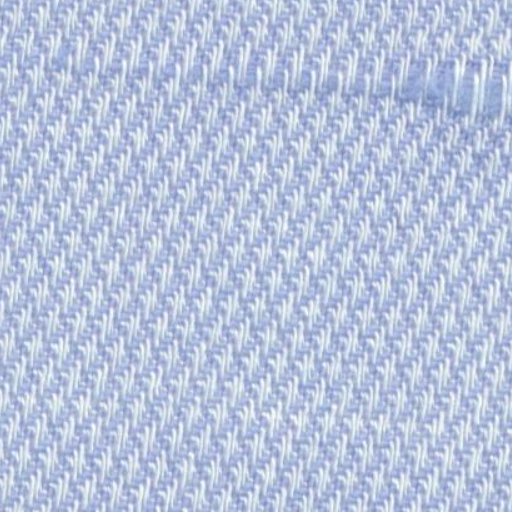DaiSha: (232, 40, 508, 127)
